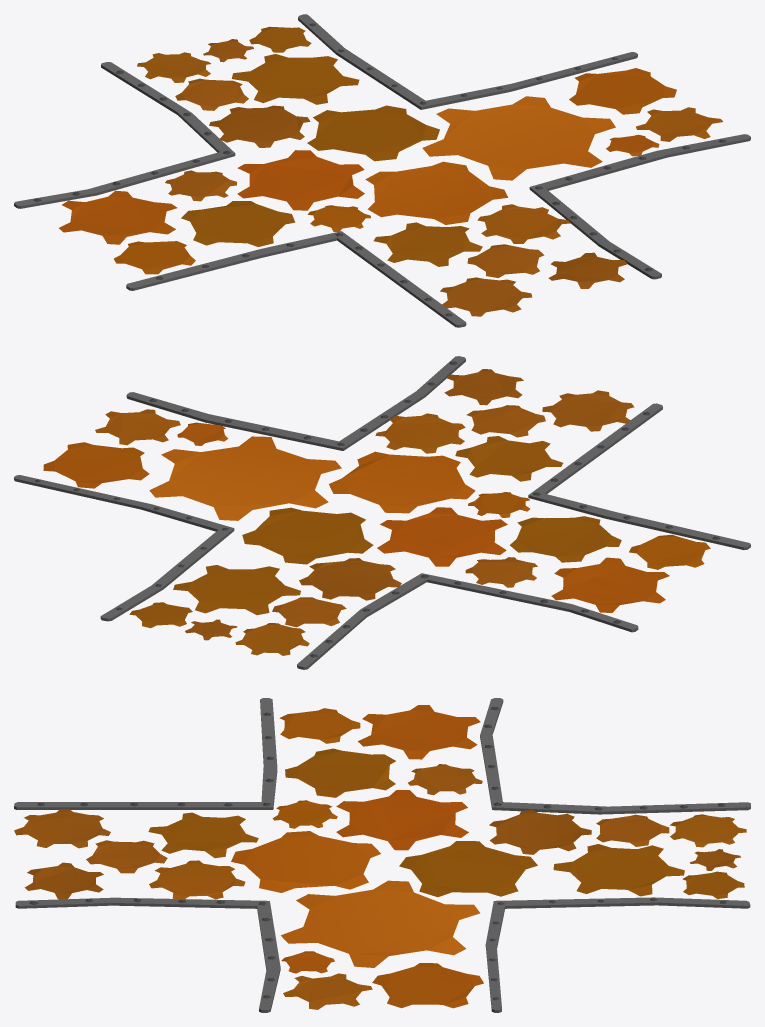
The model's file is Road Cross.glb.
The picture shows the model from 3 angles, top to bottom: view 1: azimuth 30°, elevation 25°; view 2: azimuth 150°, elevation 25°; view 3: azimuth 270°, elevation 25°; orthographic projection. The views are drawn at different scales.
Parts seen in each view (by area): view 1: RoadCross; view 2: RoadCross; view 3: RoadCross.
Boxes of the visible parts, bbox=[...] form: RoadCross: bbox=[14, 14, 750, 327]; RoadCross: bbox=[14, 356, 750, 669]; RoadCross: bbox=[14, 698, 750, 1012].
Size of what is drawn, in the model's own units: 6 by 0.0402 by 5.99.
1 material, 1 textured.
